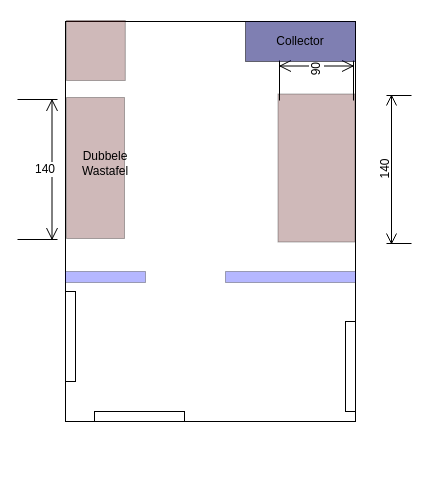
The diagram is 429 pixels wide and 478 high, and some of its shapes have lost their labels. Each missing label, with the centre of its shape:
Douche: the point at 316,167
Kast: the point at 95,50
